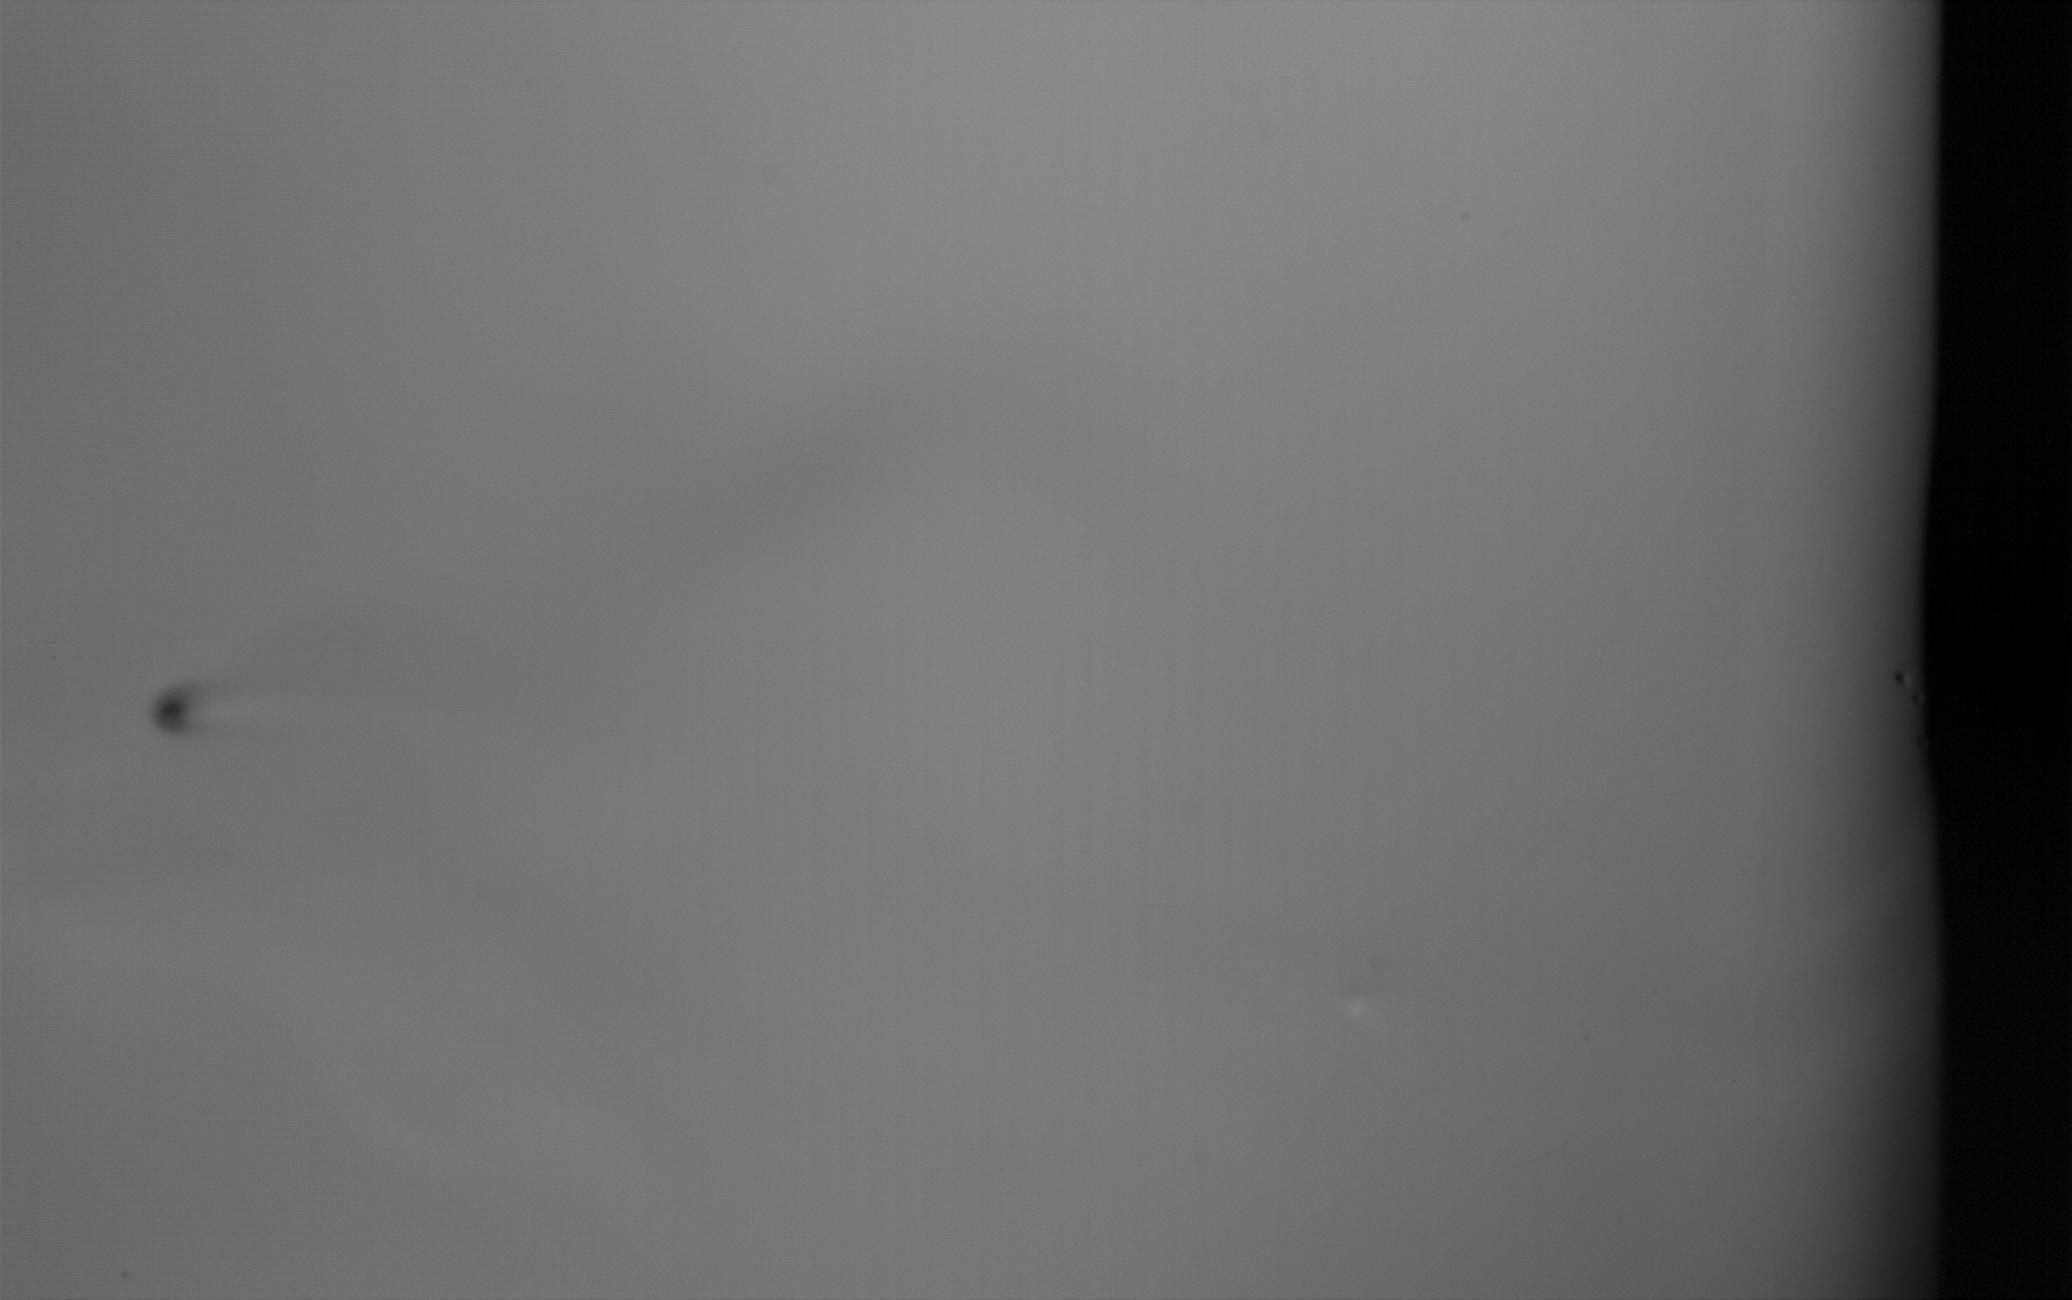DiffusiveMixing: (147, 677, 201, 743), (150, 678, 199, 737), (162, 699, 184, 729)
